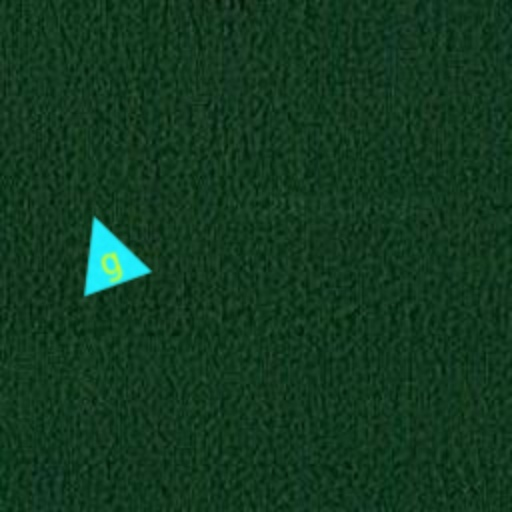triangle: (58, 202, 154, 298)
